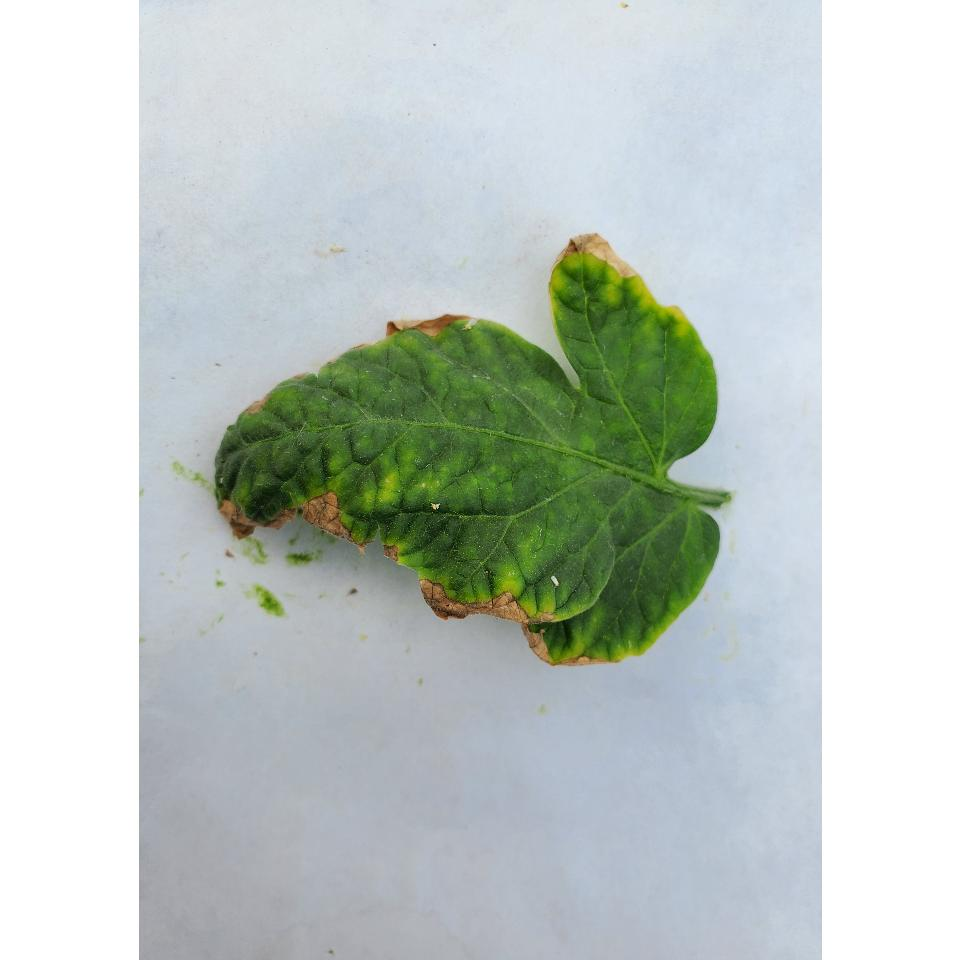tomato_bacterial_blight: (220, 306, 736, 662)
